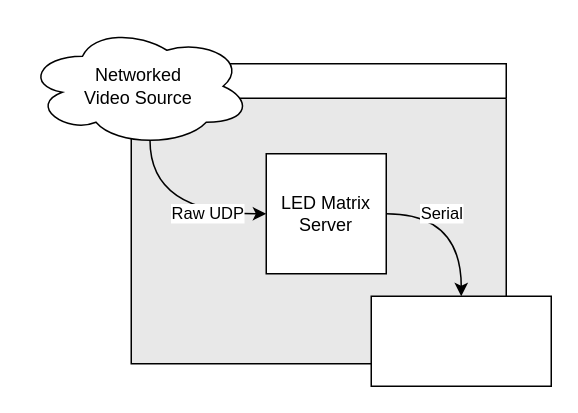
Image size: 578x413. Some labels were removed from this diagram. The shapes that lost their labels are listed below. From the top down, each one's box as (x1, y1, x2, y2) in pixels, then its label:
(130, 62, 506, 364): Raspberry Pi
(370, 295, 551, 386): WS281x LED Matrix
